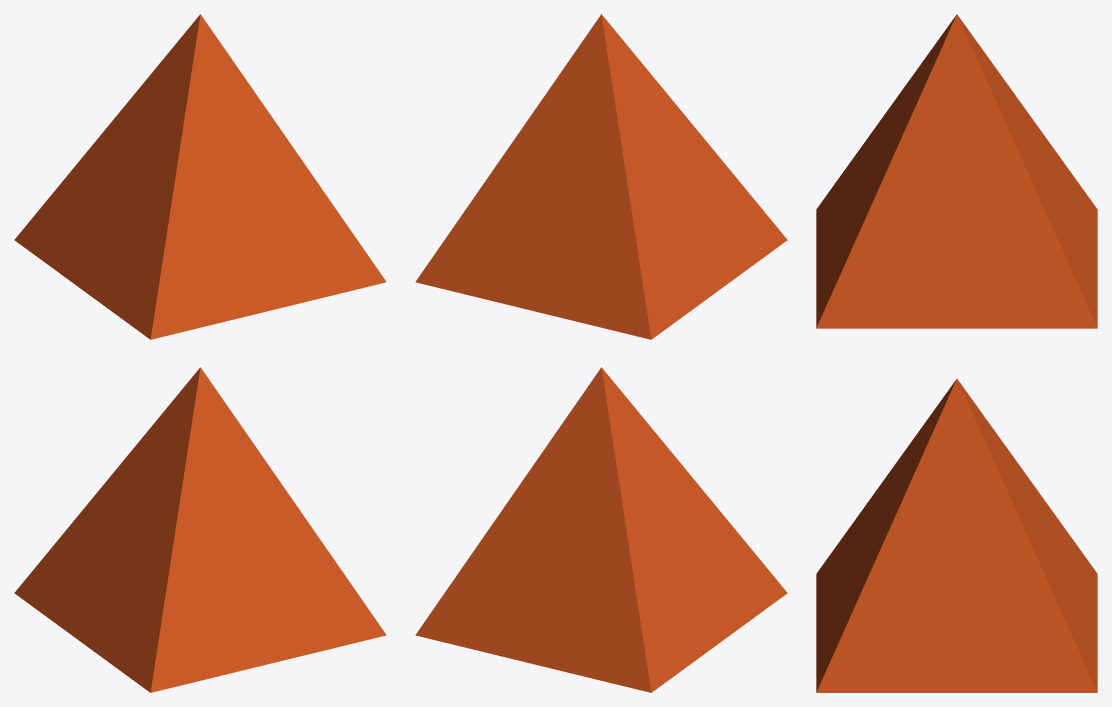
The model's file is hierarchy.dae.
3 views of the same model, side by side, from view 1: azimuth 30°, elevation 25°; view 2: azimuth 150°, elevation 25°; view 3: azimuth 270°, elevation 25° (orthographic). The views are drawn at different scales.
Visible parts, largest first — view 1: upper, lower; view 2: upper, lower; view 3: upper, lower.
Boxes of the visible parts, bbox=[...] form: upper: bbox=[14, 14, 386, 339]; lower: bbox=[14, 367, 386, 692]; upper: bbox=[415, 14, 787, 339]; lower: bbox=[415, 367, 787, 692]; upper: bbox=[816, 14, 1097, 328]; lower: bbox=[816, 379, 1097, 692].
Size of the model in its own units: 1.4 by 3.4 by 1.4.
